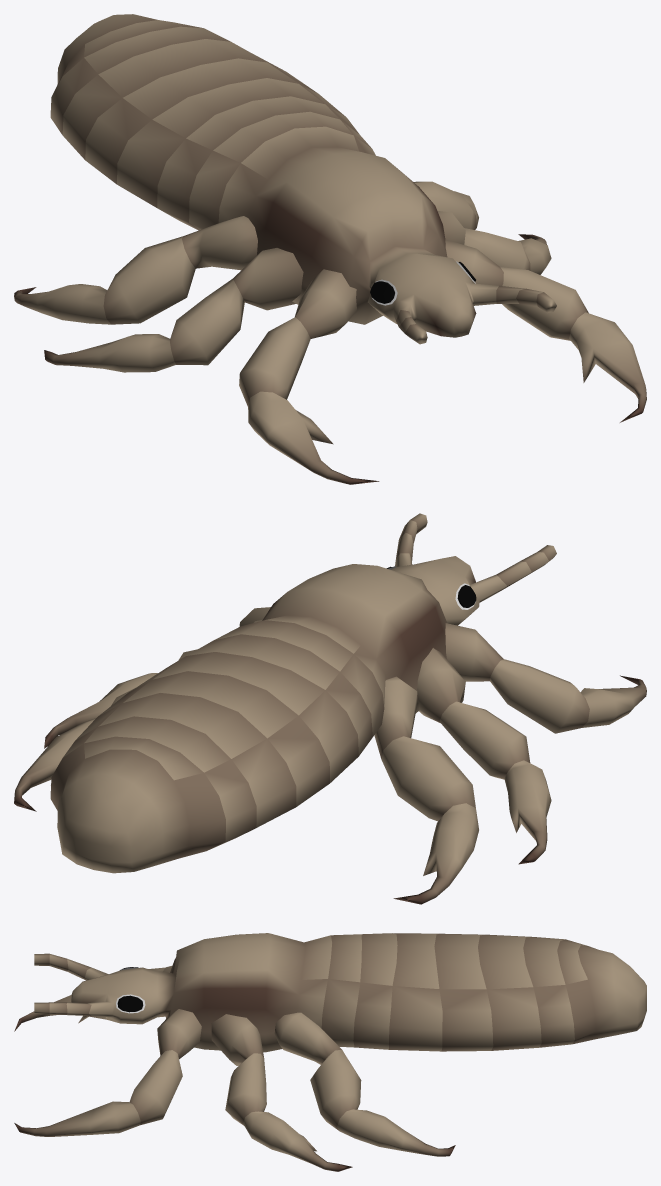
The model's file is microscopic-tiny-animals-louse_v1.glb.
3 views of the same model, one above another, from view 1: azimuth 30°, elevation 25°; view 2: azimuth 150°, elevation 25°; view 3: azimuth 270°, elevation 25° (orthographic). The views are drawn at different scales.
Parts seen in each view (by area): view 1: Louse; view 2: Louse; view 3: Louse.
Boxes of the visible parts, box(x1,y1,x2,y2) form: Louse: box(14, 14, 646, 484); Louse: box(14, 513, 646, 904); Louse: box(14, 933, 646, 1171).
Bounding box in the file's own units: 0.2088 × 0.073 × 0.3.
